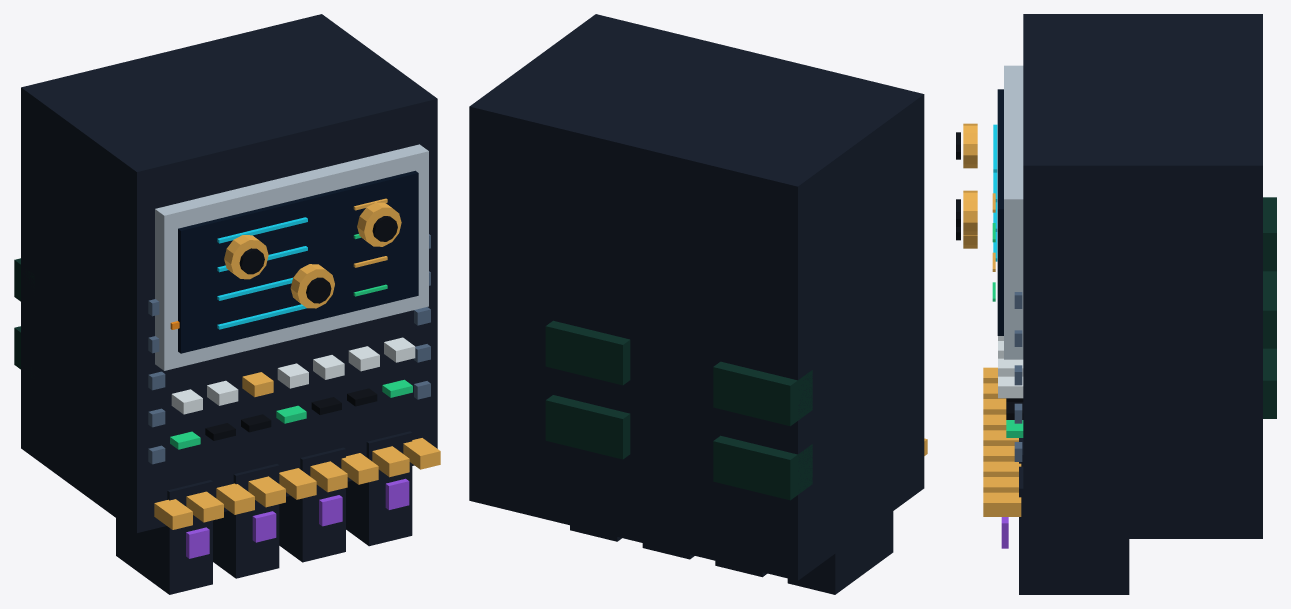
The model's file is 62_L91_PulsarCorrelationProcessor.fbx.
The picture shows the model from 3 angles, left to right: view 1: azimuth 30°, elevation 25°; view 2: azimuth 150°, elevation 25°; view 3: azimuth 270°, elevation 25°; orthographic projection. The views are drawn at different scales.
Parts seen in each view (by area): view 1: L91_PulsarCorrelationProcessor, L91_PulsarCorrelationProcessor_Part_0012, L91_PulsarCorrelationProcessor_Part_0015, L91_PulsarCorrelationProcessor_Part_0017, L91_PulsarCorrelationProcessor_Part_0013; view 2: L91_PulsarCorrelationProcessor; view 3: L91_PulsarCorrelationProcessor, L91_PulsarCorrelationProcessor_Part_0013, L91_PulsarCorrelationProcessor_Part_0017.
Part boxes in pixels (x1,y1,x2,y2): L91_PulsarCorrelationProcessor: [14, 14, 440, 594]; L91_PulsarCorrelationProcessor_Part_0012: [186, 478, 409, 558]; L91_PulsarCorrelationProcessor_Part_0015: [290, 264, 334, 308]; L91_PulsarCorrelationProcessor_Part_0017: [357, 202, 401, 246]; L91_PulsarCorrelationProcessor_Part_0013: [224, 235, 268, 279]; L91_PulsarCorrelationProcessor: [469, 14, 927, 594]; L91_PulsarCorrelationProcessor: [983, 14, 1276, 594]; L91_PulsarCorrelationProcessor_Part_0013: [963, 123, 977, 168]; L91_PulsarCorrelationProcessor_Part_0017: [963, 190, 977, 235].
Bounding box in the file's own units: 104 × 142 × 92.96.
